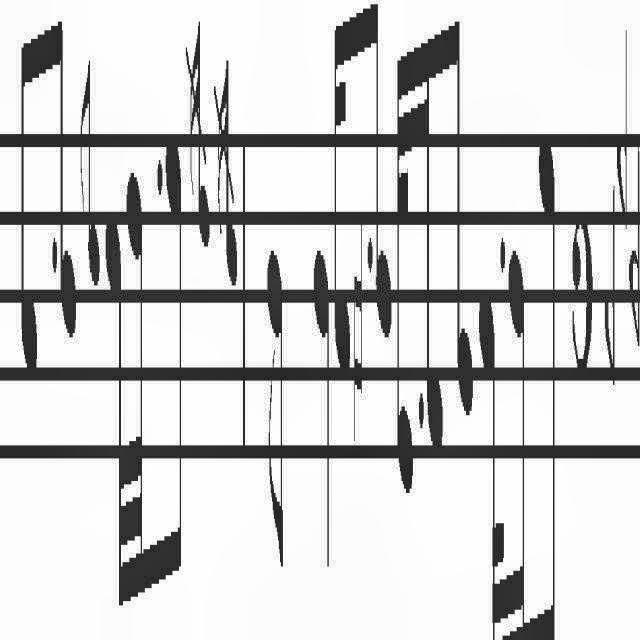Bemol: (616, 0, 632, 224), (604, 155, 618, 385), (628, 112, 640, 372)
Eighth-note: (536, 104, 560, 640), (448, 11, 476, 433), (162, 128, 184, 612), (262, 236, 286, 616), (17, 8, 38, 388), (57, 10, 79, 352), (372, 1, 392, 360)
Quarter-note: (313, 244, 331, 572)
Sixteenth-note: (331, 9, 353, 410), (509, 232, 529, 640), (425, 21, 443, 456)
